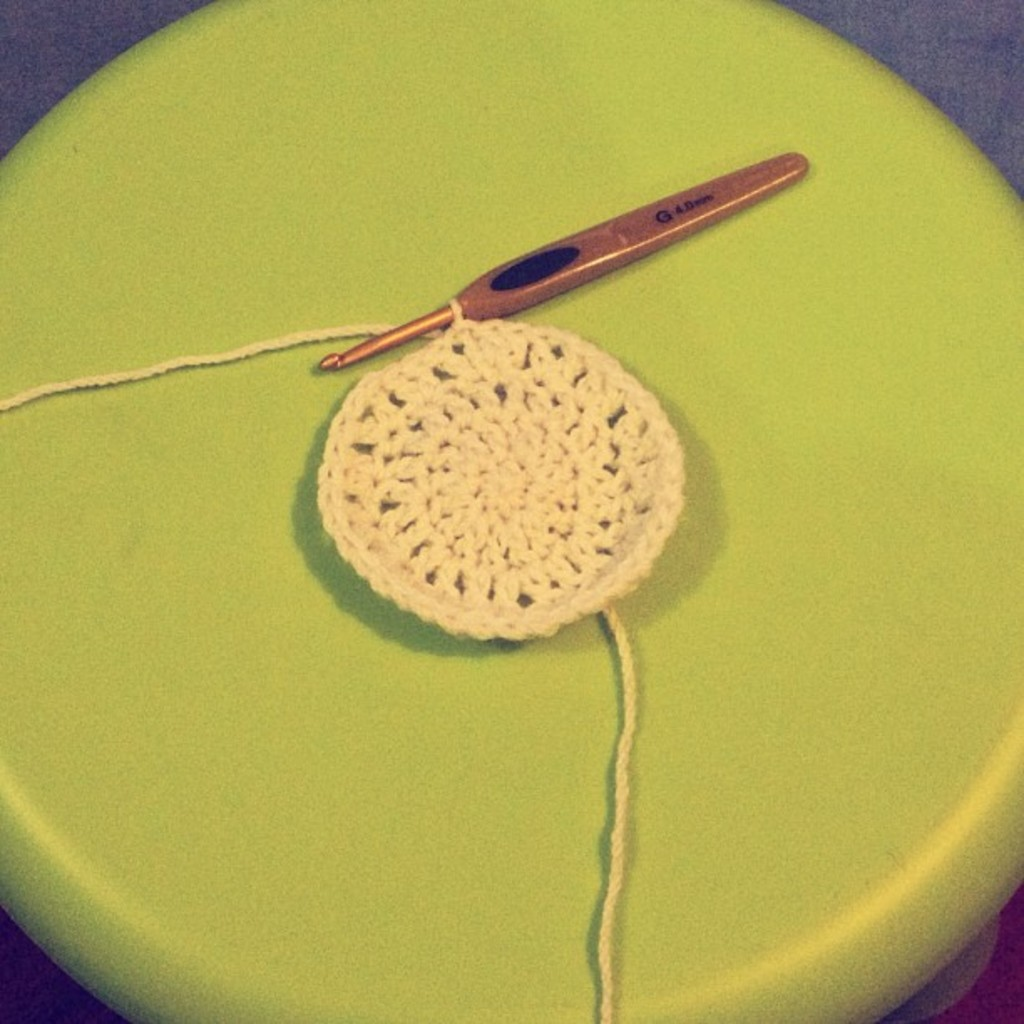plate: (1, 0, 980, 1020)
